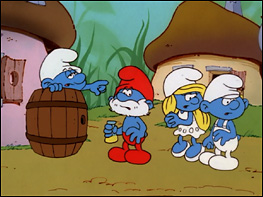smurf: (103, 65, 155, 165), (199, 71, 249, 171), (161, 66, 205, 162), (38, 47, 108, 97)
